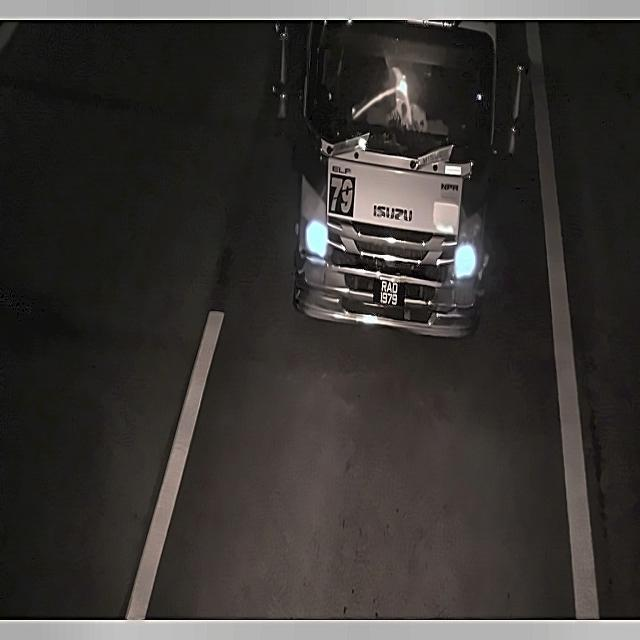car: (370, 276, 410, 312)
